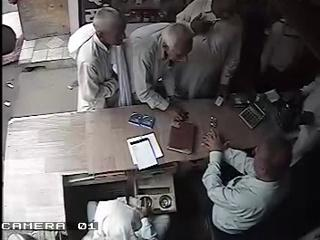Normal: (202, 128, 293, 237), (160, 0, 244, 106), (128, 22, 194, 120), (83, 194, 158, 240)
shoplifting: (68, 7, 132, 112)
